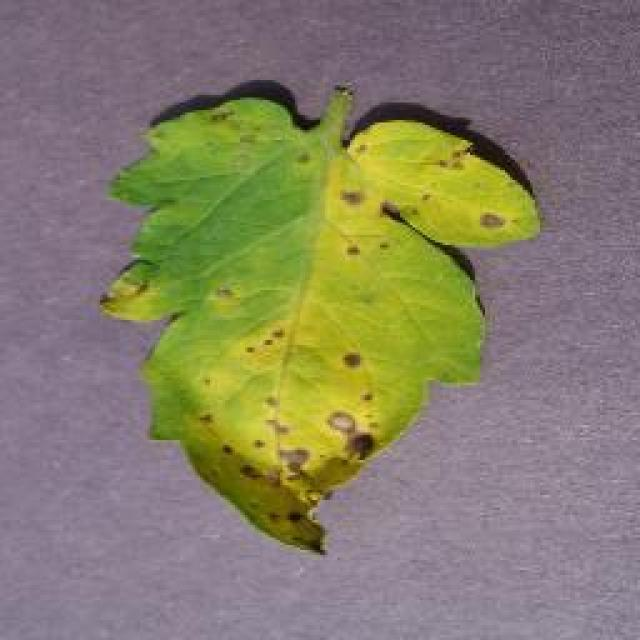Tomato___Septoria_leaf_spot: (100, 92, 540, 548)
